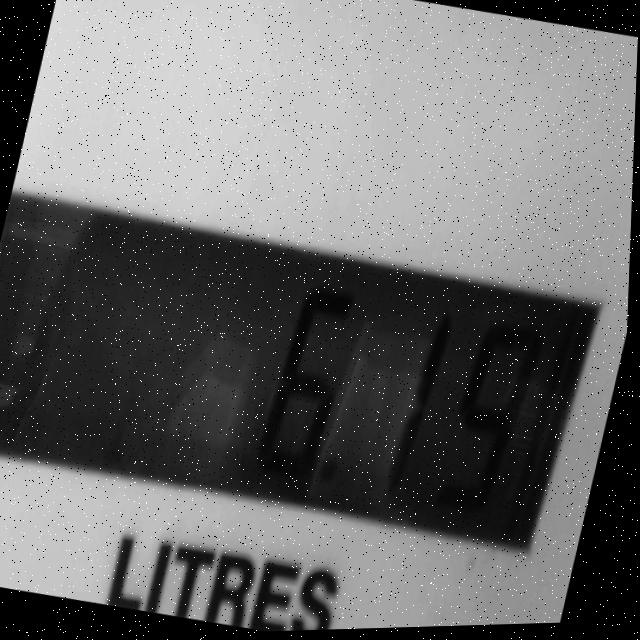.: (322, 458, 342, 487)
1: (382, 312, 455, 515)
6: (259, 286, 361, 482)
9: (442, 320, 545, 531)
